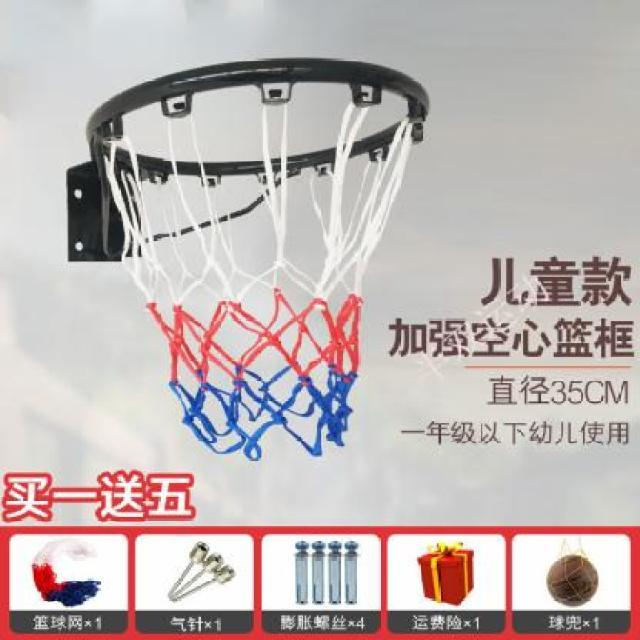basketball: (546, 554, 598, 608)
rim: (93, 60, 424, 460)
